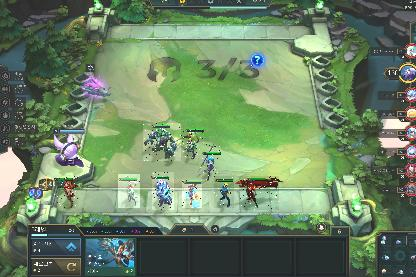1_ezreal: (214, 176, 234, 208)
1_karma: (118, 174, 140, 208)
1_leona: (152, 172, 174, 210)
1_malphite: (143, 123, 181, 161)
1_nidalee: (202, 144, 220, 180)
1_senna: (239, 176, 279, 210)
1_sett: (54, 175, 78, 209)
1_taliyah: (182, 180, 202, 208)
1_wukong: (180, 128, 204, 158)
